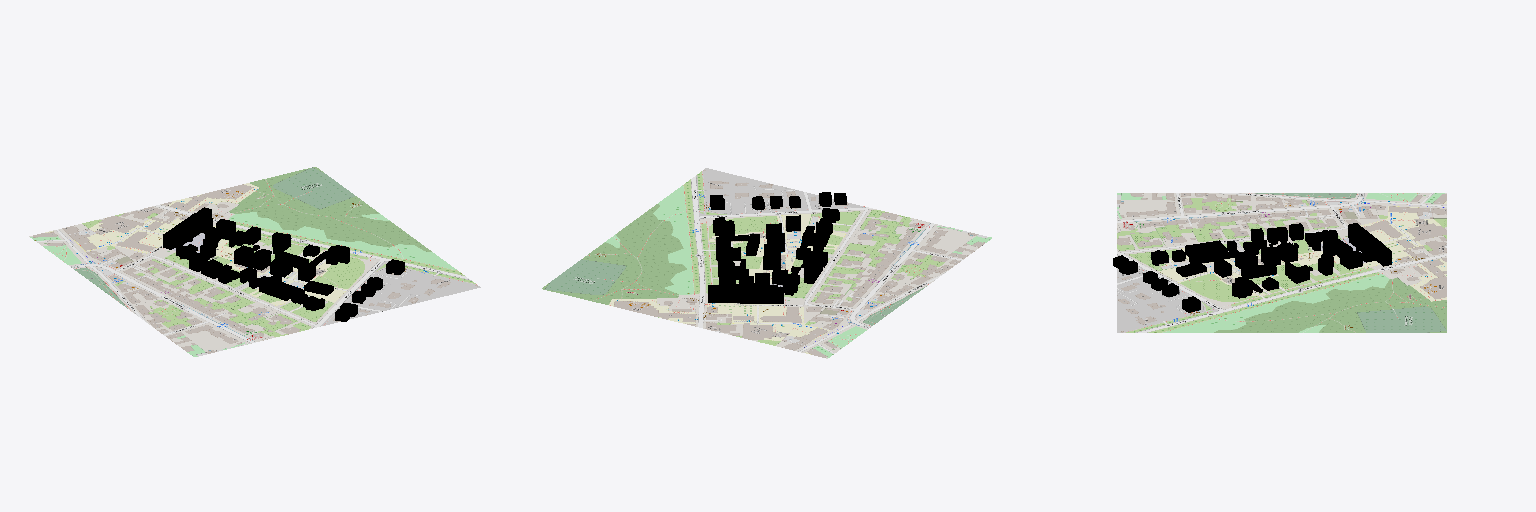
The picture shows the model from 3 angles: view 1: azimuth 30°, elevation 25°; view 2: azimuth 150°, elevation 25°; view 3: azimuth 270°, elevation 25°; orthographic projection.
Visible parts, largest first — view 1: map.png, object_1; view 2: map.png, object_1; view 3: map.png, object_1.
Boxes of the visible parts, box(x1,y1,x2,y2) form: map.png: box(29, 167, 480, 356); object_1: box(163, 207, 404, 321); map.png: box(542, 168, 991, 358); object_1: box(708, 192, 846, 303); map.png: box(1117, 193, 1446, 332); object_1: box(1113, 223, 1391, 312).
Bounding box in the file's own units: 1207 × 54 × 1219.
2 materials, 1 textured.